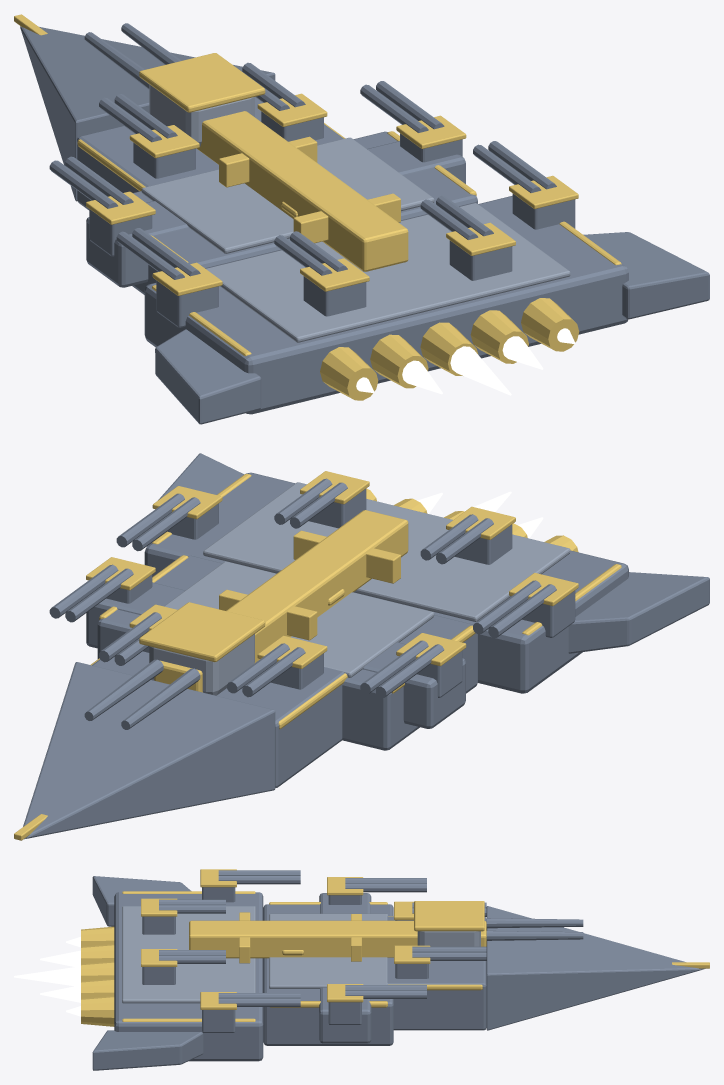
The model's file is Warship.fbx.
The picture shows the model from 3 angles, top to bottom: view 1: azimuth 30°, elevation 25°; view 2: azimuth 150°, elevation 25°; view 3: azimuth 270°, elevation 25°; orthographic projection. The views are drawn at different scales.
Parts seen in each view (by area): view 1: Tier_Aft, Deck_Aft, Spine, Deck_Mid, Prow, Fin-1, Fin+1, BridgeFrame, Tier_Mid, Tier_Fwd, Sponson_L, Bridge (+44 smaller); view 2: Prow, Deck_Aft, Tier_Aft, Spine, Deck_Mid, Tier_Mid, Fin-1, Tier_Fwd, BridgeFrame, Sponson_L, Bridge, Fin+1 (+34 smaller); view 3: Prow, Spine, Tier_Aft, Deck_Aft, Tier_Fwd, Tier_Mid, Deck_Mid, Fin+1, BridgeFrame, Fin-1, Sponson, Bridge (+44 smaller).
Boxes of the visible parts, x1=… form: Tier_Aft: x1=144, y1=195, x2=628, y2=414; Deck_Aft: x1=206, y1=203, x2=570, y2=342; Spine: x1=197, y1=111, x2=408, y2=271; Deck_Mid: x1=141, y1=137, x2=434, y2=253; Prow: x1=20, y1=26, x2=275, y2=201; Fin-1: x1=155, y1=329, x2=261, y2=424; Fin+1: x1=583, y1=232, x2=709, y2=319; BridgeFrame: x1=139, y1=53, x2=265, y2=112; Tier_Mid: x1=132, y1=131, x2=477, y2=294; Tier_Fwd: x1=77, y1=97, x2=343, y2=210; Sponson_L: x1=86, y1=201, x2=189, y2=287; Bridge: x1=149, y1=84, x2=254, y2=146; Prow: x1=23, y1=662, x2=275, y2=839; Deck_Aft: x1=203, y1=482, x2=570, y2=621; Tier_Aft: x1=144, y1=472, x2=628, y2=693; Spine: x1=154, y1=510, x2=408, y2=692; Deck_Mid: x1=164, y1=561, x2=434, y2=677; Tier_Mid: x1=97, y1=555, x2=477, y2=750; Fin-1: x1=568, y1=572, x2=709, y2=653; Tier_Fwd: x1=92, y1=651, x2=344, y2=787; BridgeFrame: x1=139, y1=602, x2=265, y2=662; Sponson_L: x1=363, y1=642, x2=465, y2=728; Bridge: x1=149, y1=634, x2=254, y2=695; Fin+1: x1=158, y1=453, x2=244, y2=500; Prow: x1=486, y1=906, x2=705, y2=1030; Spine: x1=189, y1=920, x2=486, y2=958; Tier_Aft: x1=114, y1=892, x2=263, y2=1061; Deck_Aft: x1=122, y1=906, x2=255, y2=1003; Tier_Fwd: x1=387, y1=916, x2=486, y2=1030; Tier_Mid: x1=263, y1=904, x2=393, y2=1045; Deck_Mid: x1=269, y1=913, x2=387, y2=988; Fin+1: x1=92, y1=1030, x2=203, y2=1070; BridgeFrame: x1=414, y1=901, x2=484, y2=931; Fin-1: x1=92, y1=876, x2=191, y2=926; Sponson: x1=319, y1=987, x2=371, y2=1043; Bridge: x1=417, y1=931, x2=480, y2=946.
Size of the model in its own units: 1118 by 247 by 1870.
